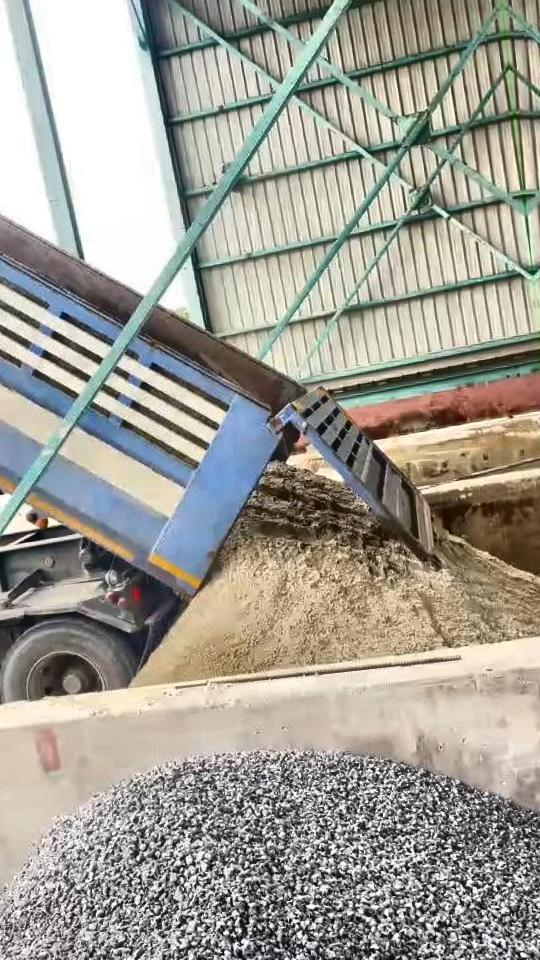gravel: (0, 753, 540, 960)
sand: (134, 464, 540, 683)
